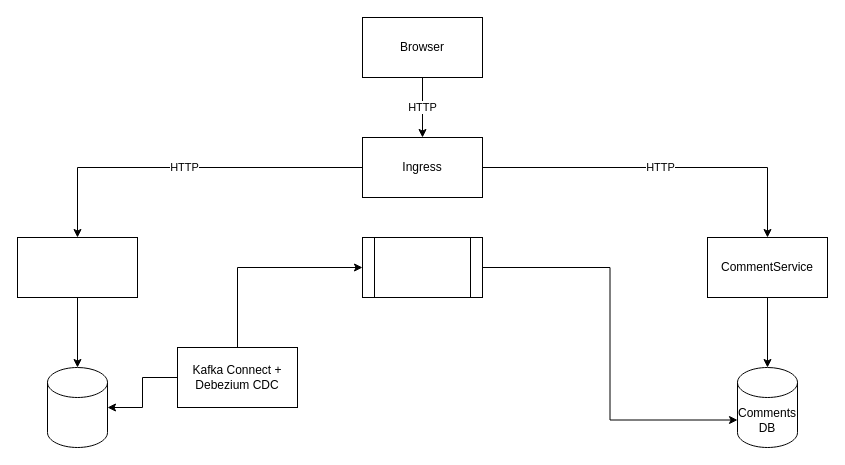
The diagram is 845 pixels wide and 465 high, and some of its shapes have lost their labels. The centre of each missing label's shape, as x and y in pixels:
"Kafka" goes at point (422, 267).
"Posts DB" goes at point (77, 407).
"PostService" goes at point (77, 267).
